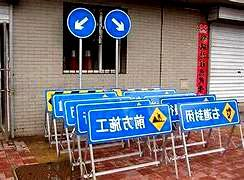sign: (91, 108, 170, 141), (182, 103, 239, 128)
